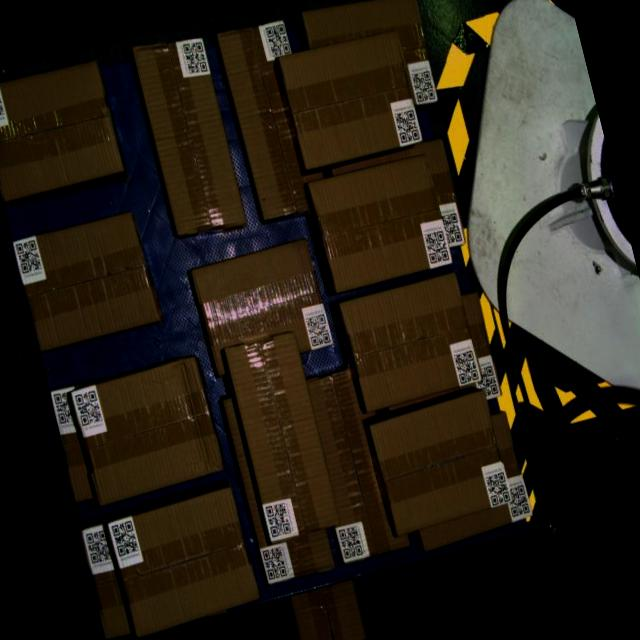box: (222, 330, 342, 543), (130, 28, 249, 240), (67, 354, 227, 506), (106, 485, 262, 639), (367, 389, 514, 535), (277, 26, 424, 170), (11, 211, 161, 352), (339, 271, 484, 412), (307, 153, 453, 293), (189, 237, 335, 376), (0, 57, 125, 201)
